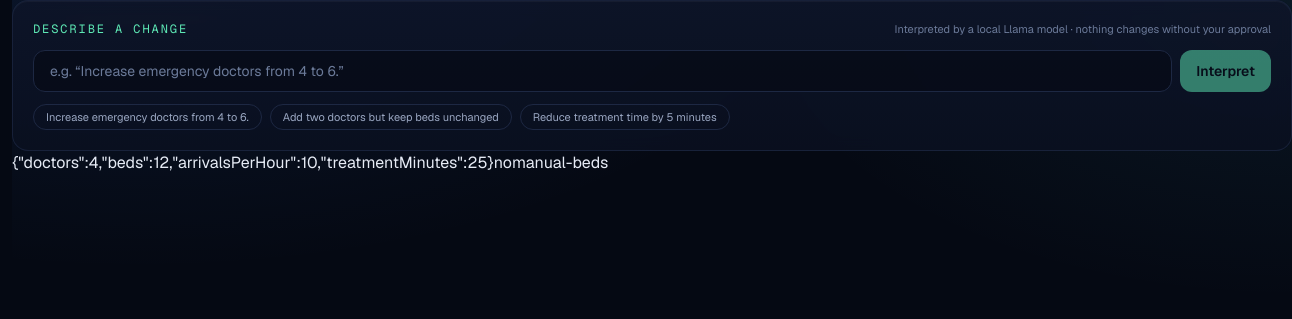
ScenarioAssistant approval flow › shows a rejection without changing anything
Type "Increase beds to 500." into the field named "Describe a scenario change" at x=603, y=70, box top-left (33, 50), bottom-right (1172, 92)
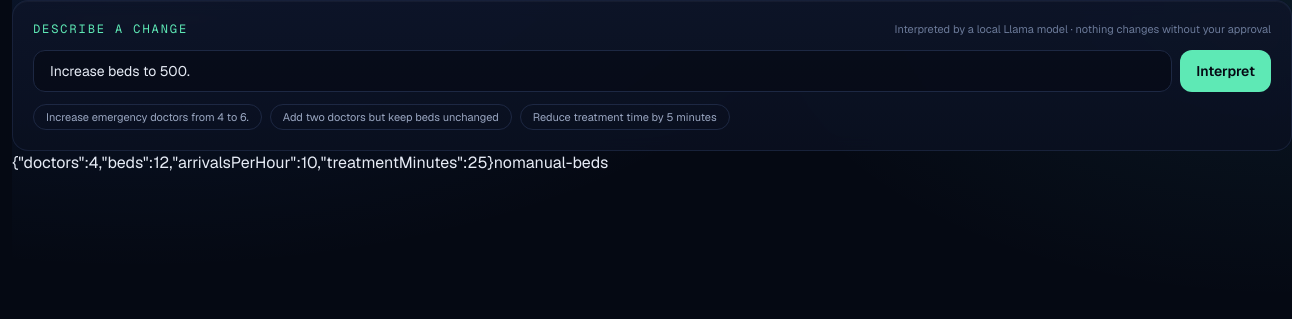
Click the button "Interpret" at x=1226, y=70, box top-left (1180, 50), bottom-right (1271, 92)
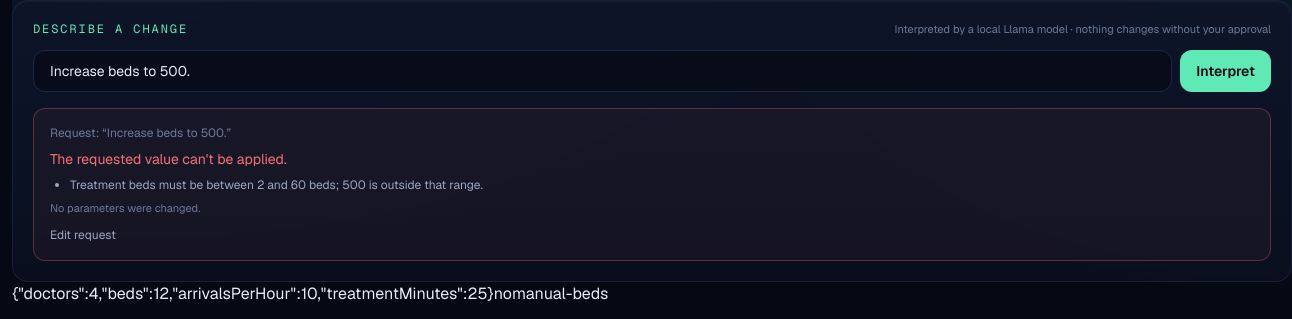
Expected: the list item "500 is outside that range" is shown, top-left (70, 176), bottom-right (483, 192)
